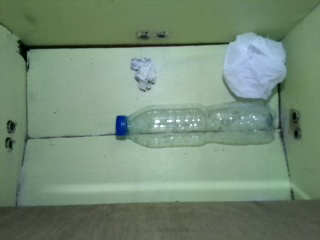bottle: (115, 98, 277, 149)
paper: (130, 57, 156, 91)
plastic-bag: (222, 32, 287, 100)
